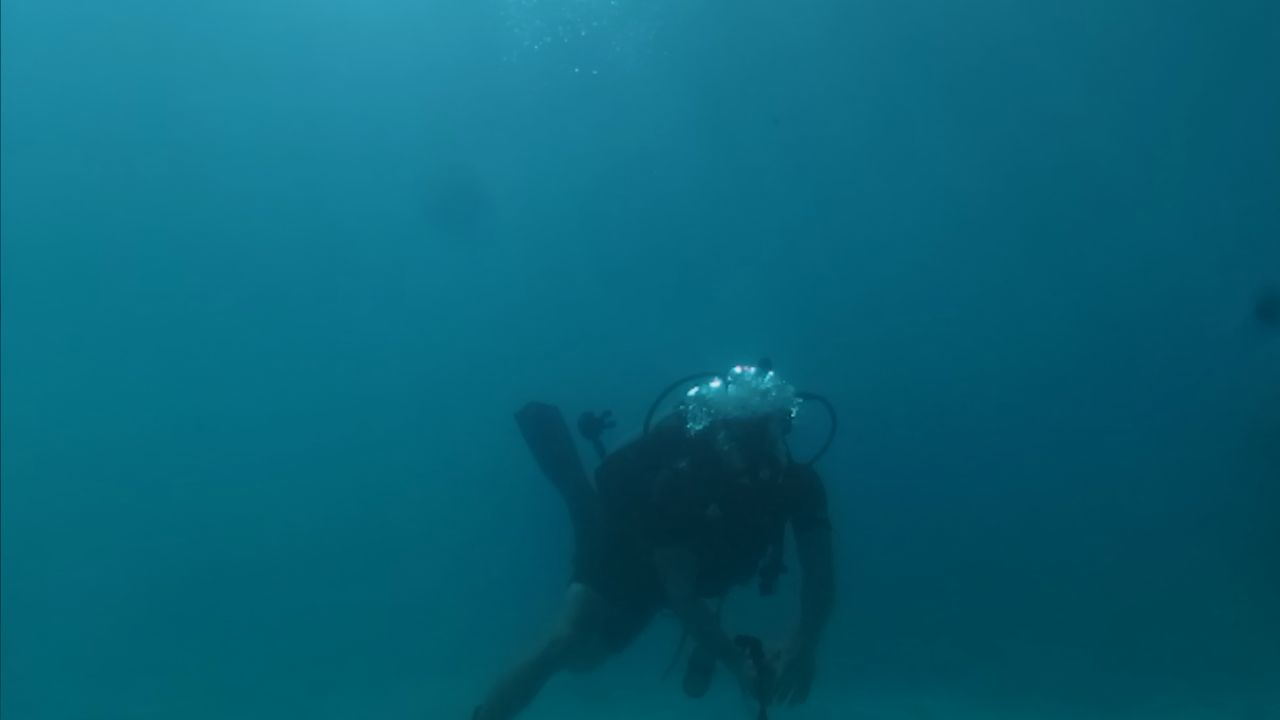Diver: (390, 318, 852, 716)
Hand: (710, 636, 768, 714)
